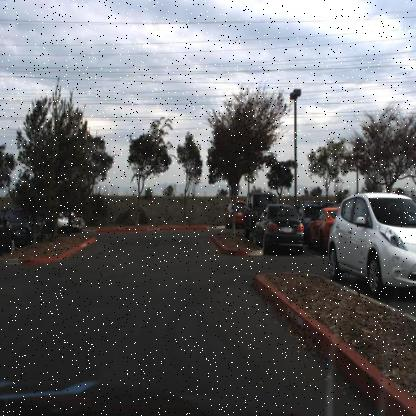car: (326, 188, 416, 298), (252, 202, 305, 254), (240, 191, 281, 240), (2, 203, 47, 246), (306, 203, 340, 254), (224, 198, 246, 228), (243, 190, 255, 245), (55, 210, 80, 232)
